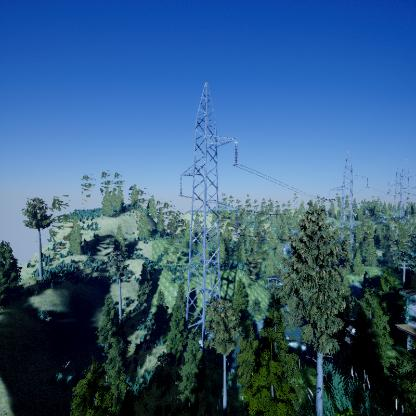tower: (177, 79, 241, 350)
